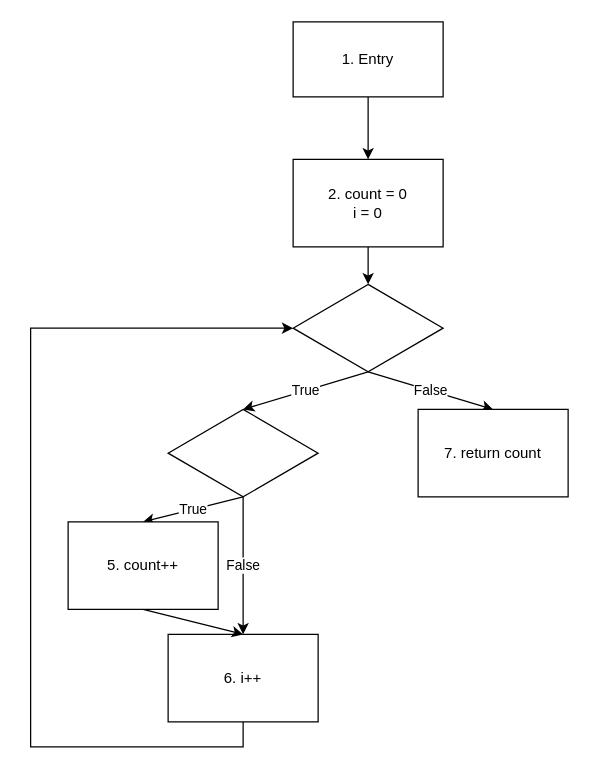
This 590x779 diagram has some shape labels left out. Each missing label, with the centre of its shape:
"3. i < size" goes at (367,327).
"4. prices[i] > threshold" goes at (242,452).
